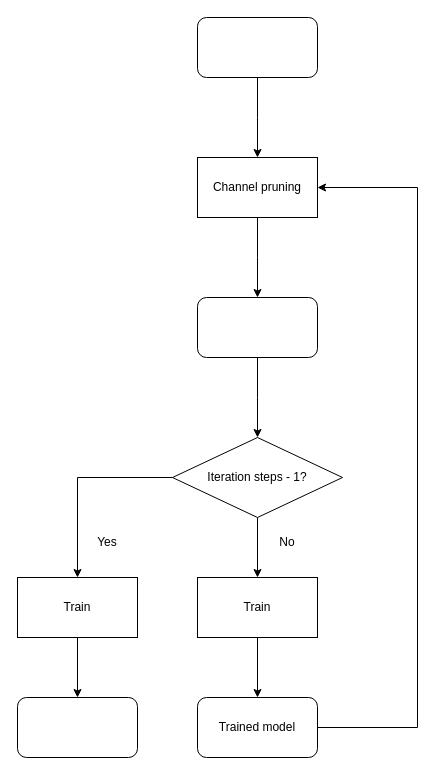
Image size: 443x775. Some labels were removed from this diagram. The box of each missing label's shape, as (x1, y1, x2, y2) in pixels:
.pt model: (196, 16, 318, 78)
Desired model: (16, 696, 138, 758)
Pruned model: (196, 296, 318, 358)
